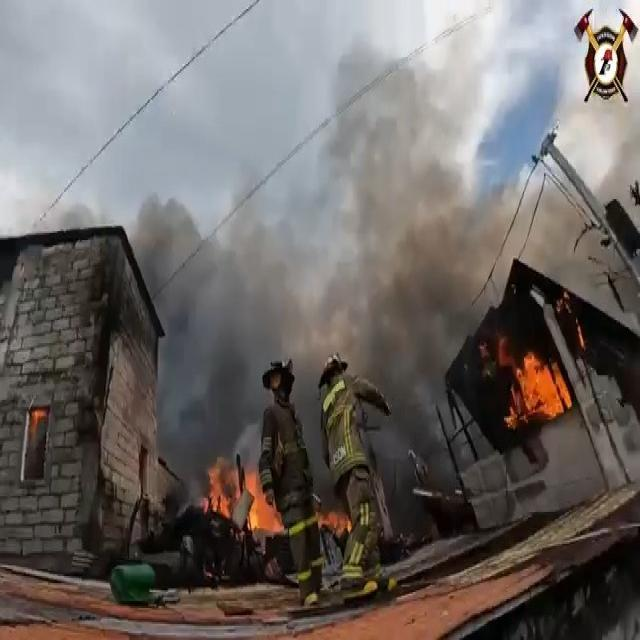Fire: (202, 454, 288, 536), (506, 347, 573, 427), (315, 510, 353, 538), (29, 404, 48, 432)
Smoke: (128, 66, 595, 546)
